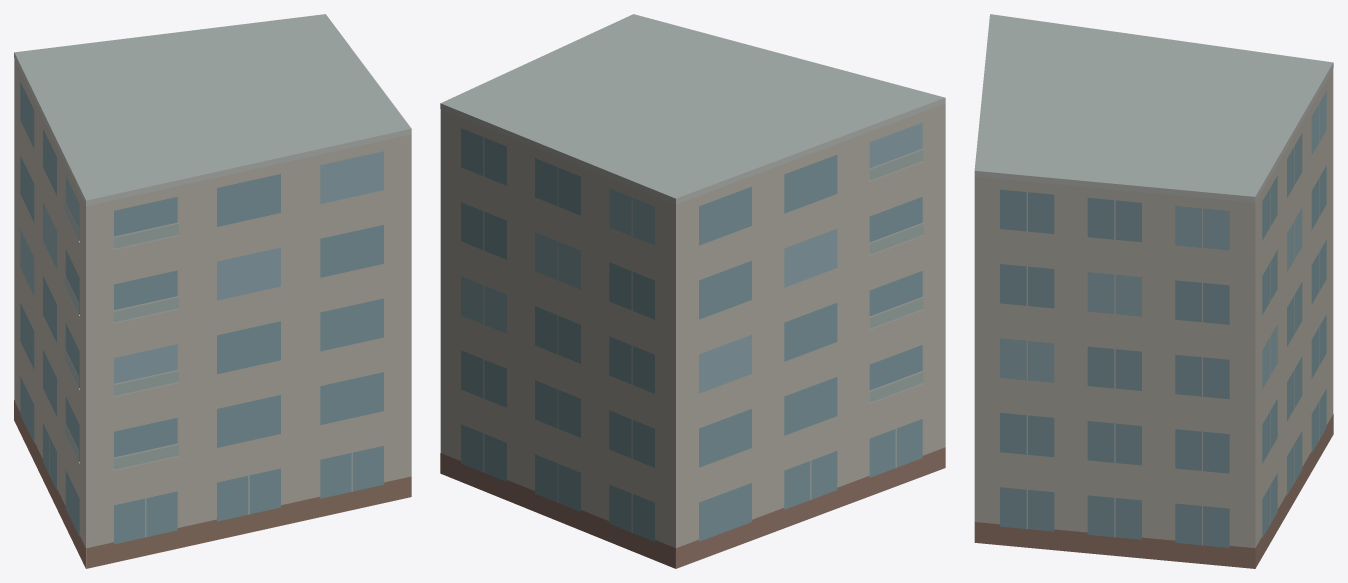
File: survey-upis-32874542.glb
The picture shows the model from 3 angles, left to right: view 1: azimuth 30°, elevation 25°; view 2: azimuth 150°, elevation 25°; view 3: azimuth 270°, elevation 25°; orthographic projection.
Parts seen in each view (by area): view 1: survey-upis-32874542.tmp; view 2: survey-upis-32874542.tmp; view 3: survey-upis-32874542.tmp.
Part boxes in pixels (left/top/right/bottom): survey-upis-32874542.tmp: left=14, top=14, right=411, bottom=568; survey-upis-32874542.tmp: left=440, top=14, right=945, bottom=568; survey-upis-32874542.tmp: left=974, top=14, right=1333, bottom=568.
Bounding box in the file's own units: 16.56 × 15.7 × 13.74.
